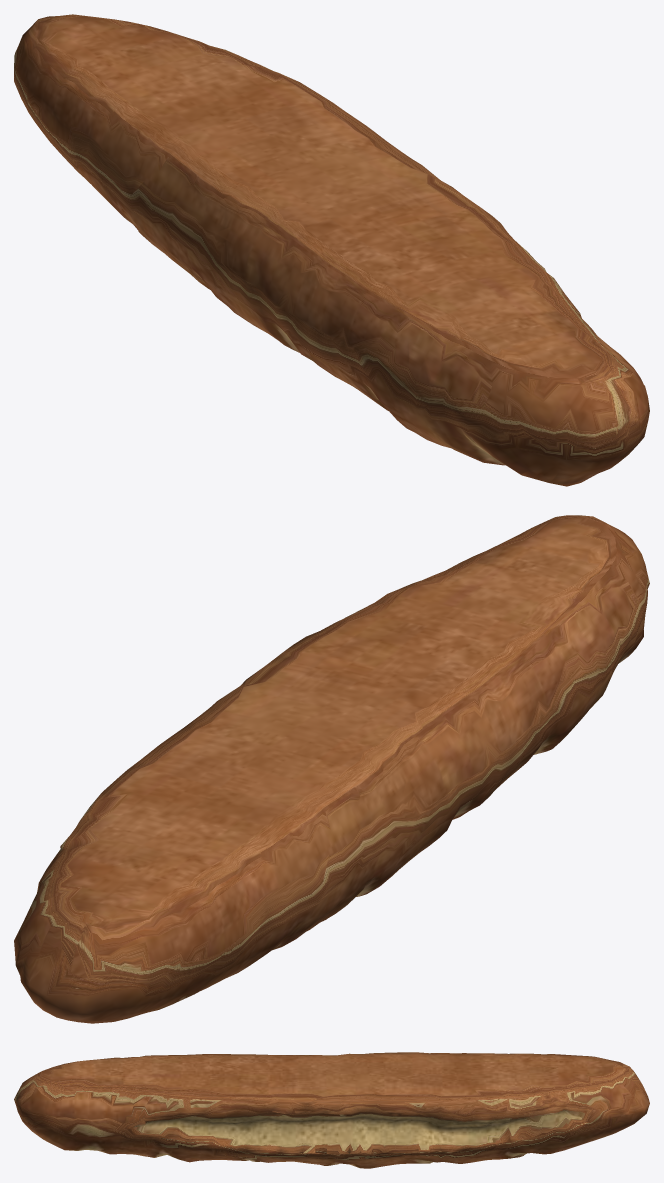
Rendered from food_prepared_baguette_d01.glb.
The picture shows the model from 3 angles, top to bottom: view 1: azimuth 30°, elevation 25°; view 2: azimuth 150°, elevation 25°; view 3: azimuth 270°, elevation 25°; orthographic projection. The views are drawn at different scales.
Parts seen in each view (by area): view 1: prop; view 2: prop; view 3: prop.
Boxes of the visible parts, x1=… form: prop: x1=14, y1=14, x2=649, y2=486; prop: x1=14, y1=515, x2=649, y2=1023; prop: x1=14, y1=1052, x2=649, y2=1168.
Bounding box in the file's own units: 0.1943 × 0.1383 × 0.8863.
1 material, 1 textured.
